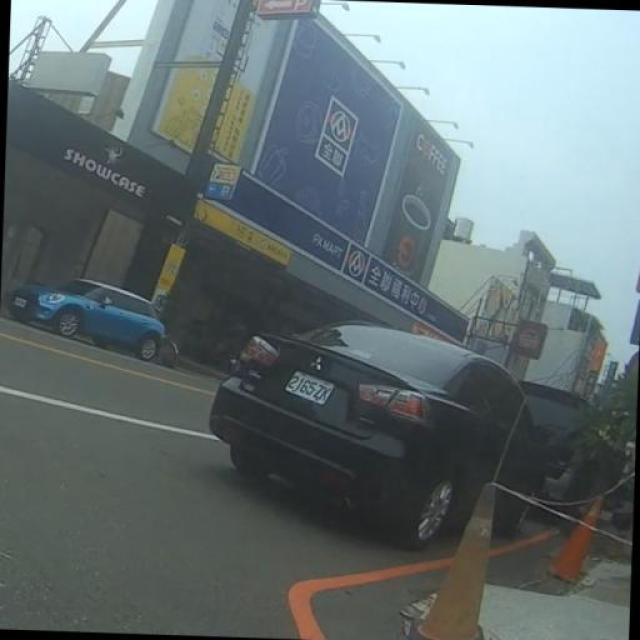Legalparking: (197, 231, 559, 569)
